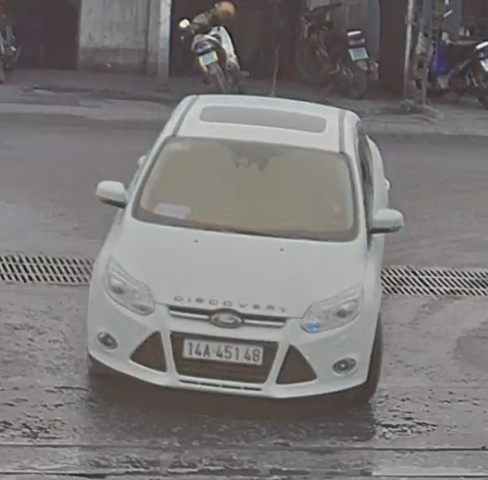vehicle plate: (185, 334, 265, 367)
